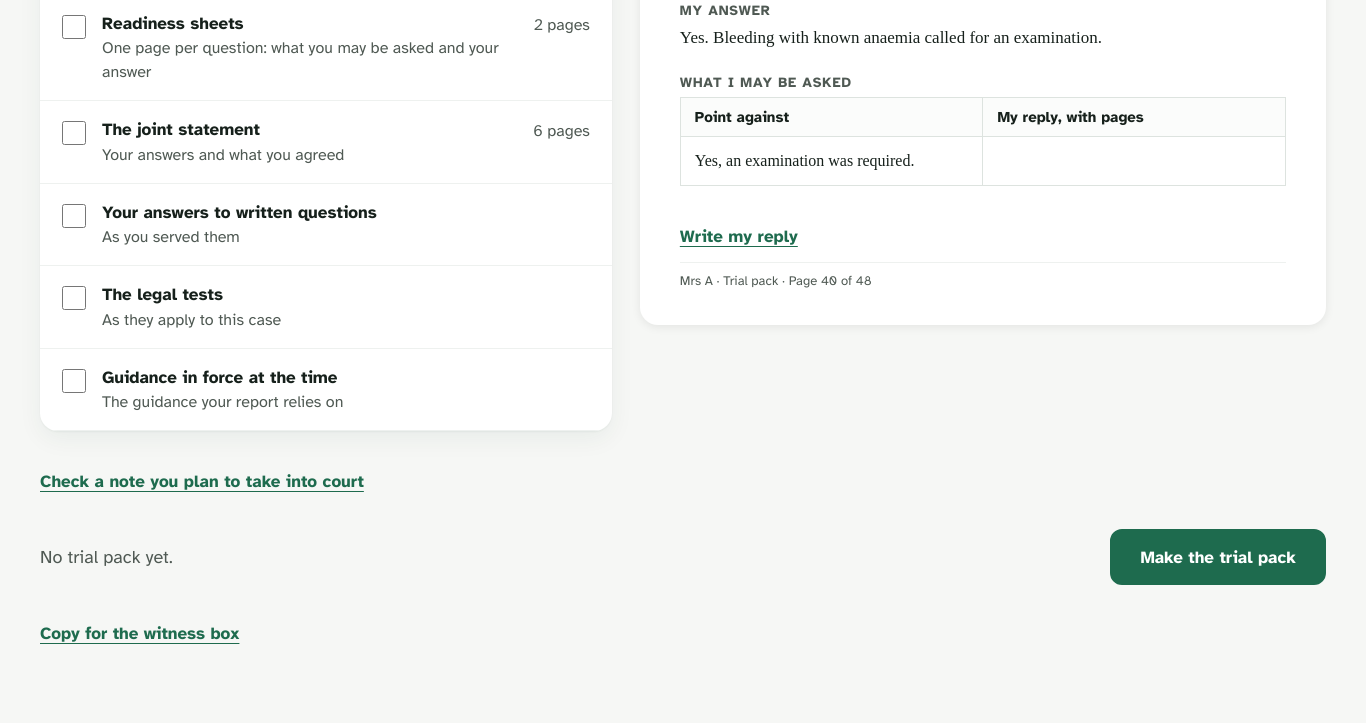
Scenario: a case not yet served cannot have a pack
(page scrolled)
Step 1. Click the button "Make the trial pack" → (1218,557), box [1110, 529, 1326, 585]
(page scrolled)
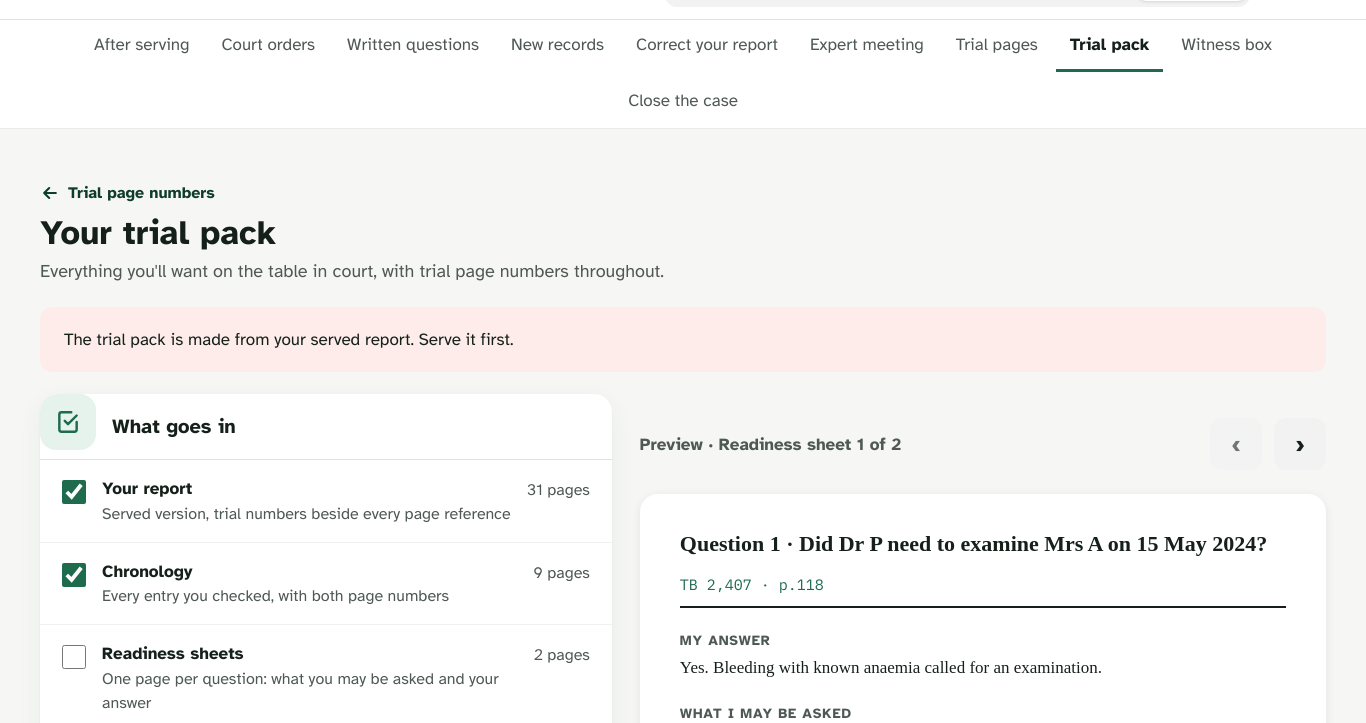
Result: the text "The trial pack is made from your served report. Serve it first." is shown at [64, 329, 513, 350]
